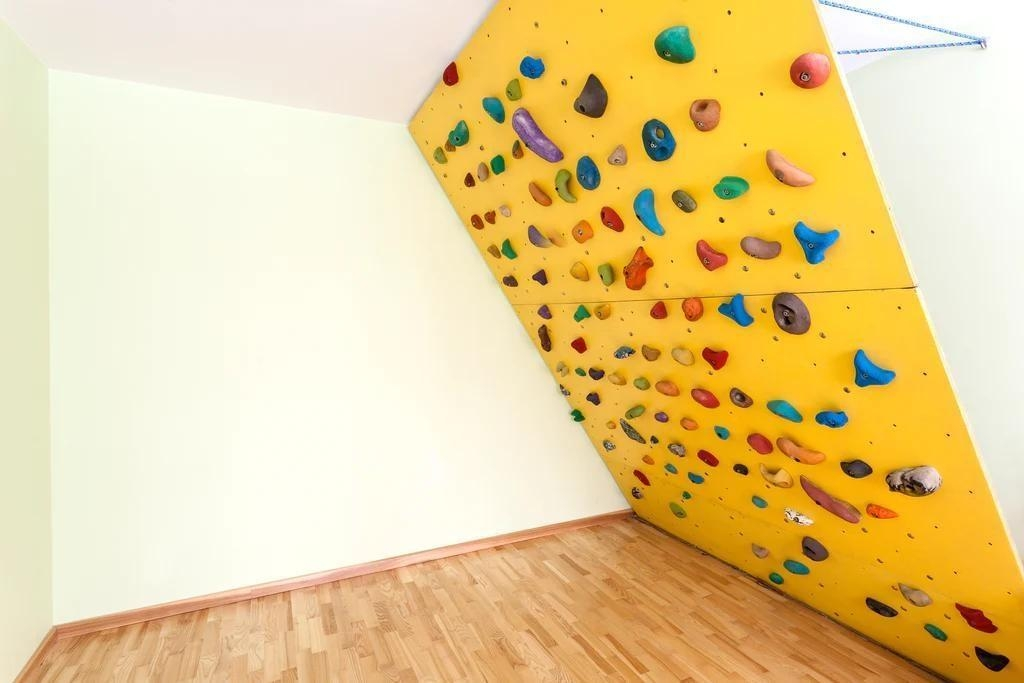hold: (800, 475, 861, 523), (512, 107, 562, 162), (794, 221, 839, 264), (766, 149, 814, 186), (886, 465, 942, 496), (772, 292, 810, 334), (854, 349, 895, 386), (573, 74, 607, 117), (654, 26, 694, 62), (790, 52, 830, 88), (633, 189, 664, 235), (642, 119, 675, 160), (776, 437, 825, 464), (623, 246, 653, 289), (955, 603, 997, 632), (718, 293, 753, 326), (689, 99, 720, 131), (696, 240, 727, 270), (740, 236, 780, 259), (713, 176, 749, 199), (766, 399, 802, 422), (974, 647, 1008, 671), (576, 156, 600, 189), (760, 463, 793, 487), (898, 583, 932, 606), (555, 169, 576, 202), (802, 536, 828, 561), (840, 459, 872, 478), (620, 419, 645, 443), (866, 597, 897, 616), (528, 181, 551, 206), (600, 206, 623, 231), (702, 347, 728, 369), (672, 189, 696, 212), (482, 97, 504, 122), (691, 388, 719, 407), (520, 56, 544, 78), (747, 433, 772, 454), (784, 507, 813, 525), (448, 120, 468, 146), (815, 411, 847, 427), (528, 225, 551, 247), (682, 297, 703, 321), (572, 220, 593, 243), (866, 503, 898, 518), (730, 387, 752, 407), (671, 347, 694, 365), (924, 623, 947, 641), (655, 379, 679, 396), (607, 145, 627, 165), (442, 61, 458, 85), (570, 261, 589, 280), (697, 449, 718, 466), (598, 263, 614, 285), (784, 560, 809, 574), (538, 325, 551, 351), (547, 229, 566, 246), (506, 79, 521, 100), (650, 301, 667, 319), (490, 155, 505, 174), (641, 345, 660, 360), (502, 239, 516, 259), (573, 305, 590, 321), (669, 502, 686, 518), (751, 543, 769, 558), (668, 442, 686, 457), (625, 404, 644, 418), (614, 345, 634, 358), (607, 372, 626, 385), (594, 304, 610, 319), (634, 469, 649, 485), (680, 417, 698, 430), (477, 162, 489, 181), (532, 269, 547, 284), (571, 337, 586, 352), (633, 377, 650, 390), (714, 425, 729, 439), (433, 147, 446, 163), (751, 495, 767, 508), (512, 140, 523, 158), (487, 244, 501, 258), (588, 367, 604, 379), (538, 305, 551, 319), (586, 391, 600, 404), (471, 214, 483, 229), (688, 472, 704, 483), (556, 362, 568, 376), (570, 409, 584, 421), (769, 572, 783, 584), (464, 172, 475, 187), (502, 275, 517, 286), (557, 384, 570, 396), (654, 411, 668, 422), (733, 464, 748, 474), (631, 487, 643, 499), (603, 439, 615, 451), (484, 210, 495, 223), (499, 204, 510, 216), (664, 463, 677, 473), (445, 139, 455, 151), (642, 454, 654, 464), (575, 367, 586, 376), (682, 491, 691, 500), (606, 420, 616, 428), (650, 435, 658, 443)
